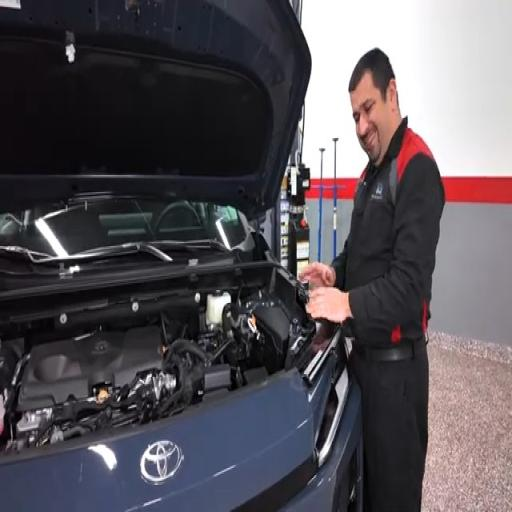bumper: (283, 382, 362, 511)
emblem: (141, 442, 184, 482)
headlight: (303, 328, 349, 466)
hood: (0, 0, 311, 216)
windshield: (0, 198, 247, 257)
